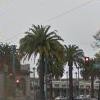Tree: (15, 15, 70, 83)
